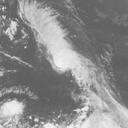cyclone: (38, 27, 100, 91)
